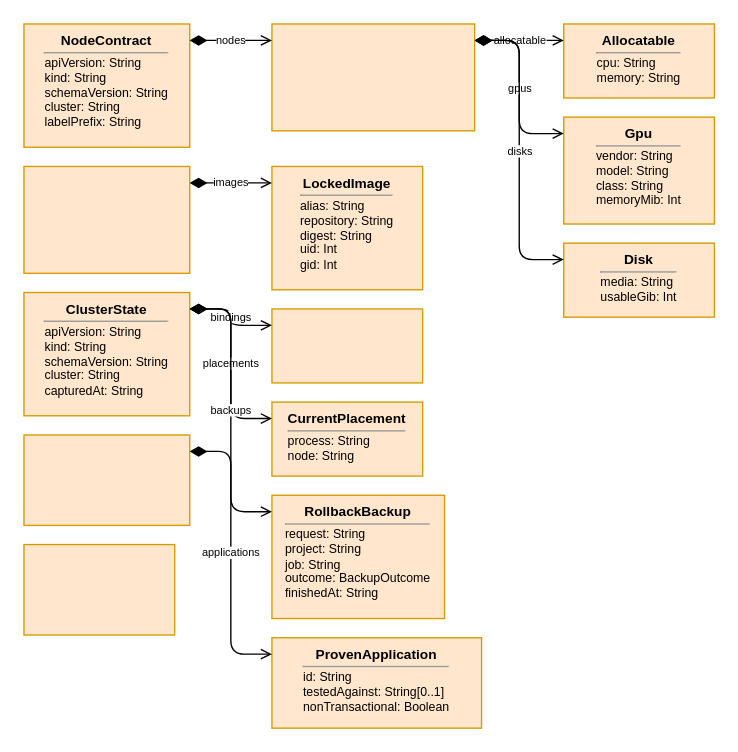
Image size: 738x752. Some labels were removed from this diagram. The shapes that lost their labels are listed below. From the top down, each one's box as (x1, y1, x2, y2) in pixels, then its label:
(271, 23, 475, 131): Node name: String site: String arch: String capabilities: String[0..*]
(23, 165, 190, 273): ImagesLock apiVersion: String kind: String schemaVersion: String name: String
(271, 308, 423, 383): Binding claim: String node: String
(23, 434, 190, 525): MigrationProof apiVersion: String kind: String schemaVersion: String
(23, 543, 175, 635): AssetFile project: String from: String content: String
